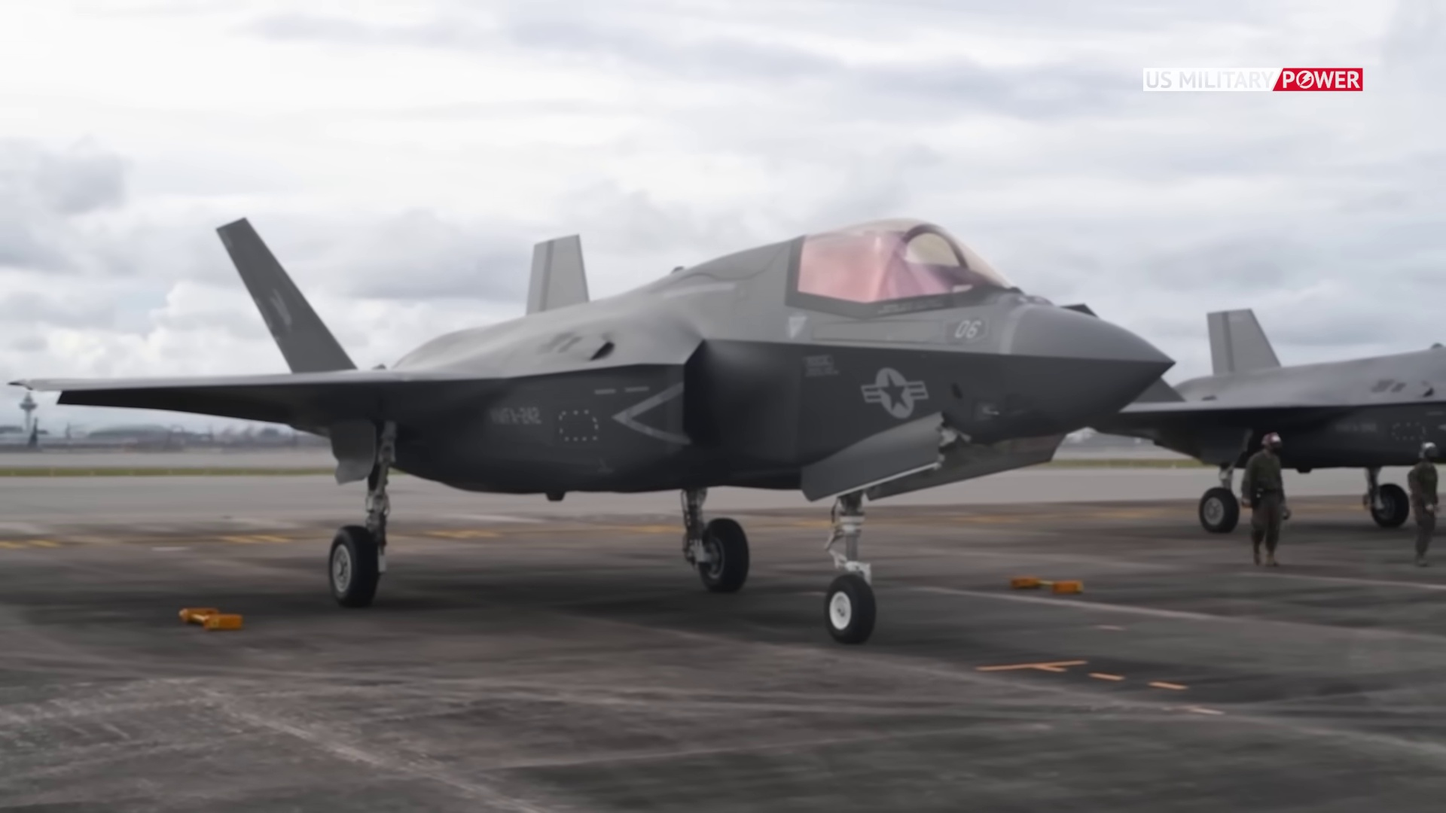F35: (8, 211, 1185, 651), (1057, 296, 1446, 544)
